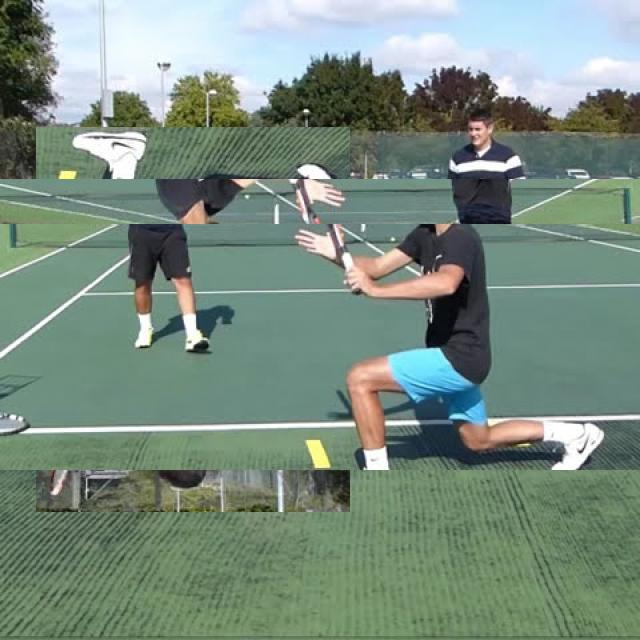court: (0, 225, 640, 470)
net: (0, 180, 640, 258)
player: (36, 127, 350, 512)
